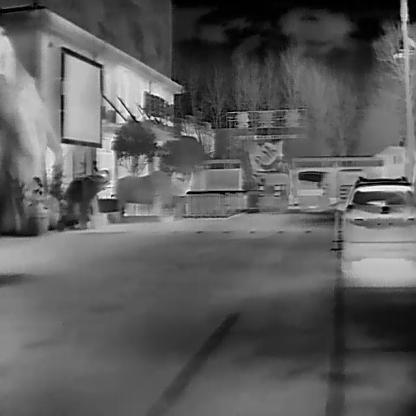car: (338, 199, 416, 275), (255, 166, 289, 210), (295, 169, 329, 207), (337, 169, 363, 198)
